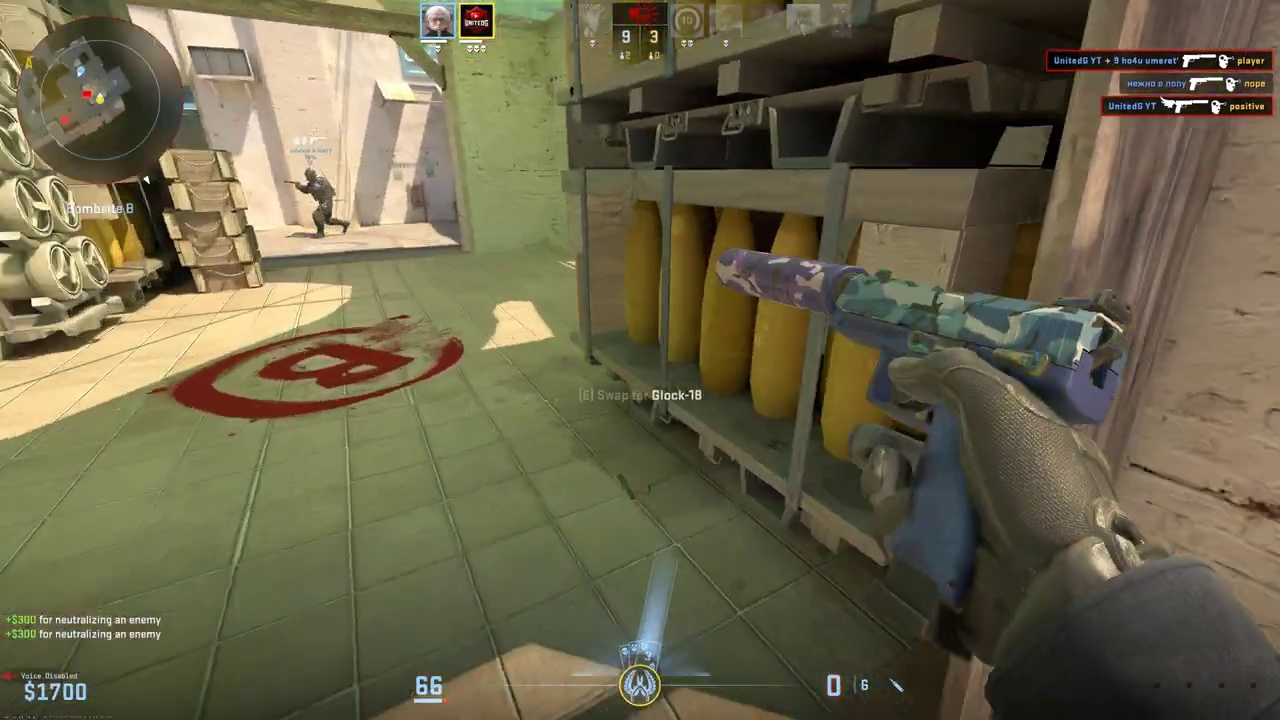CT: (305, 167, 337, 238)
